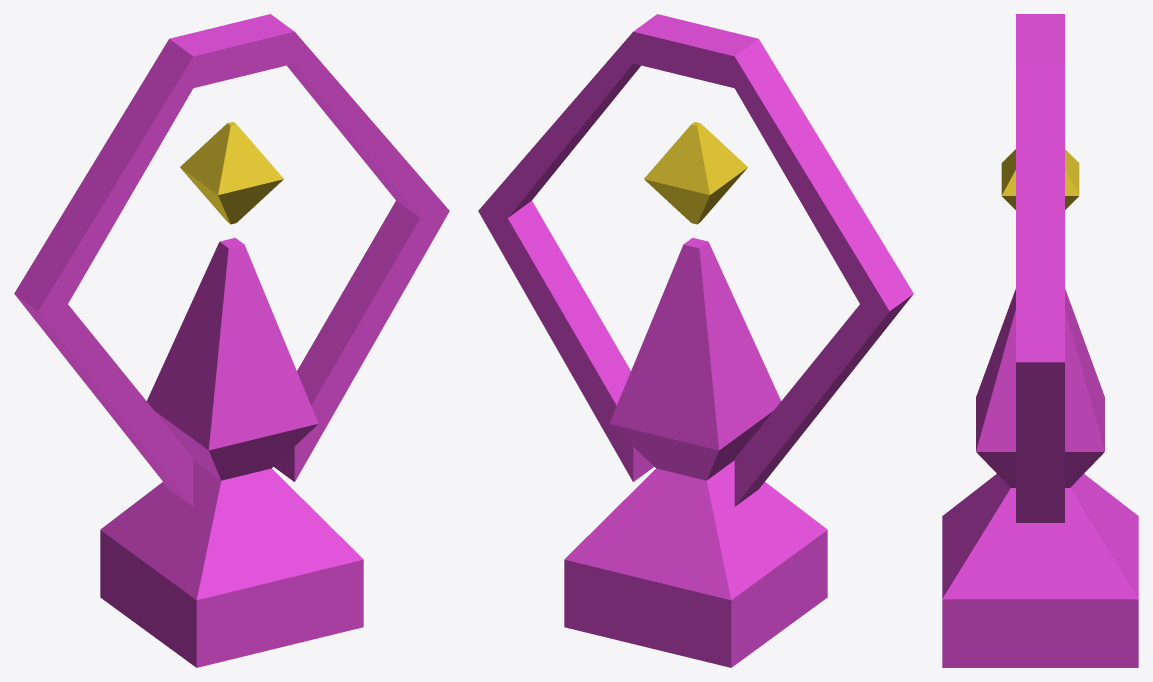
Rendered from lvl_2.fbx.
3 views of the same model, side by side, from view 1: azimuth 30°, elevation 25°; view 2: azimuth 150°, elevation 25°; view 3: azimuth 270°, elevation 25° (orthographic).
Parts seen in each view (by area): view 1: Cube.001, Cube.002, Cube; view 2: Cube.001, Cube.002, Cube; view 3: Cube.001, Cube.002, Cube.
Part boxes in pixels (<box>): Cube.001: <box>100,237,363,667</box>; Cube.002: <box>14,14,449,506</box>; Cube: <box>180,122,283,224</box>; Cube.001: <box>564,237,827,667</box>; Cube.002: <box>478,14,913,506</box>; Cube: <box>644,122,747,224</box>; Cube.001: <box>942,289,1138,667</box>; Cube.002: <box>1016,14,1064,522</box>; Cube: <box>1001,149,1079,209</box>.
Size of the model in its own units: 200 by 493 by 660.
